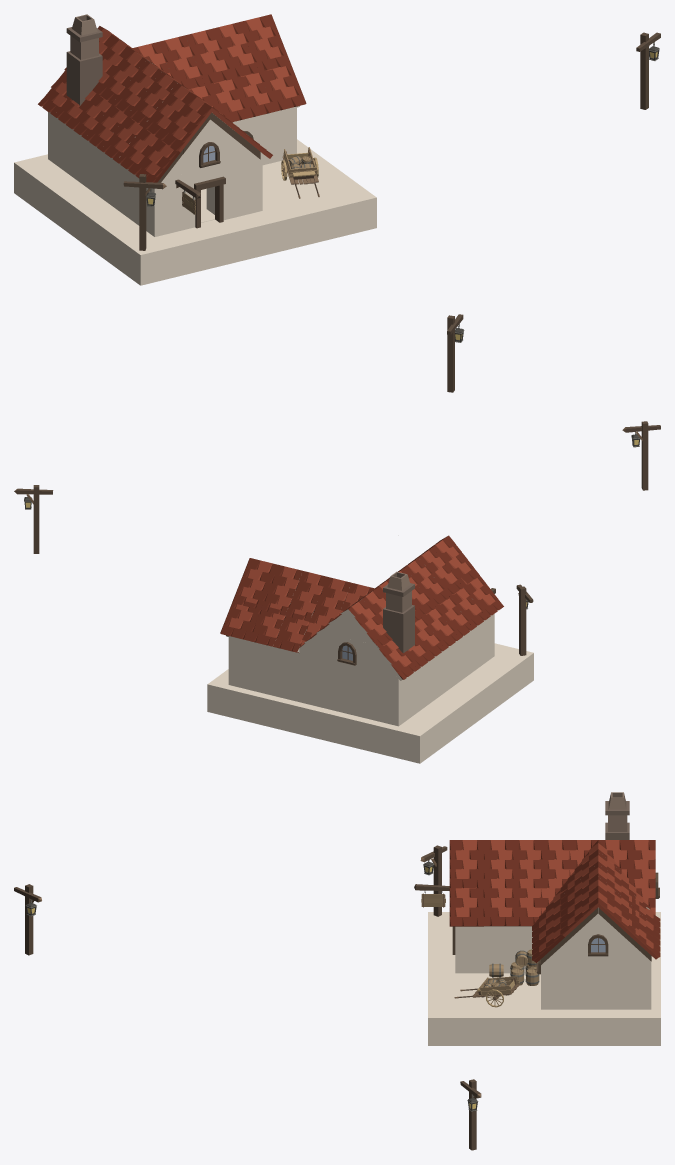
Rendered from home.obj.
3 views of the same model, one above another, from view 1: azimuth 30°, elevation 25°; view 2: azimuth 150°, elevation 25°; view 3: azimuth 270°, elevation 25° (orthographic). The views are drawn at different scales.
Visible parts, largest first — view 1: group1 newhome:object62, group1 newhome:object6, group1 newhome:object54, group1 newhome:object20, group1 newhome:object1group3, group1 newhome:object17, group1 newhome:object3, group1 newhome:object36, group1 newhome:object37, group1 newhome:object2, group1 newhome:object15, group1 newhome:object38 (+22 smaller); view 2: group1 newhome:object62, group1 newhome:object8, group1 newhome:object6, group1 newhome:object54, group1 newhome:object17, group1 newhome:object47, group1 newhome:group8object12, group1 newhome:object48, group1 newhome:object39, group1 newhome:object41, group1 newhome:object20, group1 newhome:group12object2 (+17 smaller); view 3: group1 newhome:object62, group1 newhome:object9, group1 newhome:object17, group1 newhome:object7, group1 newhome:object20, newhome:object1 group1, group1 newhome:object2, group1 newhome:object19, group1 newhome:group9object12, group1 newhome:object18, group1 newhome:group11object2, group1 newhome:object27 (+11 smaller).
Part boxes in pixels (x1,y1,x2,y2): group1 newhome:object62: (14,139,376,285); group1 newhome:object6: (48,112,138,225); group1 newhome:object54: (66,14,102,105); group1 newhome:object20: (158,94,245,152); group1 newhome:object1group3: (181,161,235,230); group1 newhome:object17: (239,14,290,71); group1 newhome:object3: (139,174,181,236); group1 newhome:object36: (212,22,259,78); group1 newhome:object37: (185,29,232,85); group1 newhome:object2: (235,159,262,217); group1 newhome:object15: (259,64,306,111); group1 newhome:object38: (158,35,204,89); group1 newhome:object62: (207,643,533,763); group1 newhome:object8: (228,636,398,726); group1 newhome:object6: (398,624,480,725); group1 newhome:object54: (383,571,414,653); group1 newhome:object17: (232,558,278,609); group1 newhome:object47: (348,599,392,649); group1 newhome:group8object12: (220,591,265,640); group1 newhome:object48: (372,639,417,680); group1 newhome:object39: (260,565,302,615); group1 newhome:object41: (285,571,327,621); group1 newhome:object20: (425,535,479,586); group1 newhome:group12object2: (323,634,372,670); group1 newhome:object62: (428,912,660,1045); group1 newhome:object9: (569,957,651,1009); group1 newhome:object17: (560,888,635,936); group1 newhome:object7: (484,926,532,973); group1 newhome:object20: (449,840,483,887); newhome:object1 group1: (541,957,569,1009); group1 newhome:object2: (455,926,484,973); group1 newhome:object19: (483,878,512,926); group1 newhome:group9object12: (449,887,483,926); group1 newhome:object18: (512,878,540,926); group1 newhome:group11object2: (569,930,626,957); group1 newhome:object27: (512,840,540,878).
Bounding box in the file's own units: 23.06 × 7.15 × 25.23.
